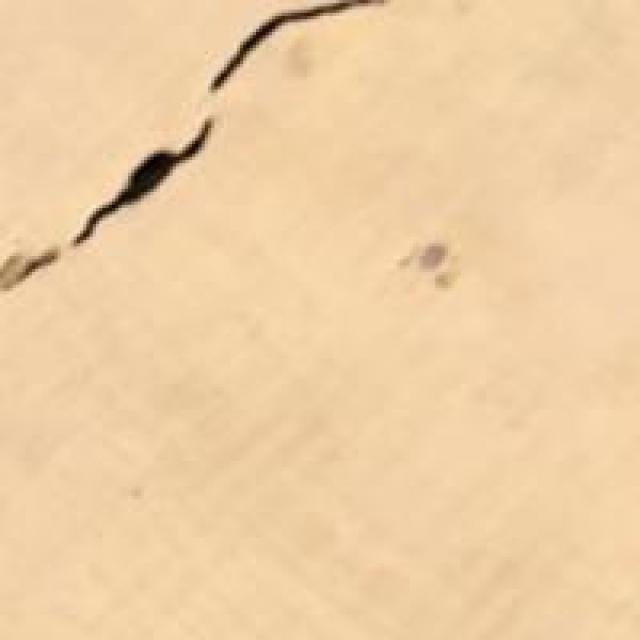Crack: (7, 7, 426, 298)
